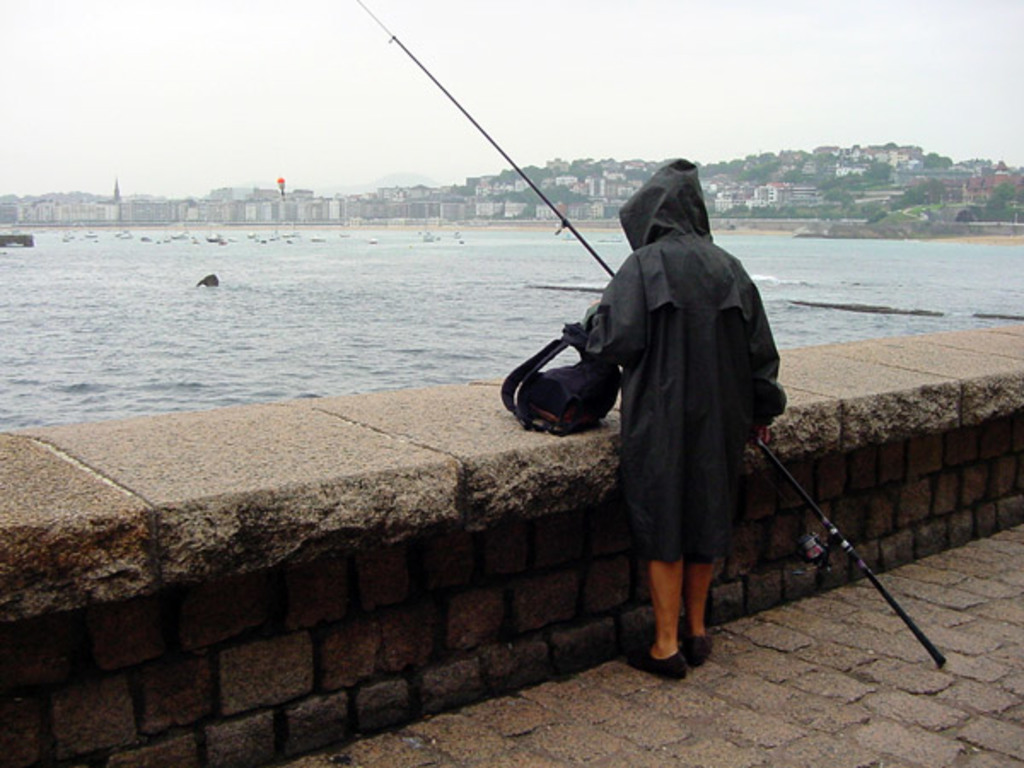Person: (579, 158, 789, 684)
